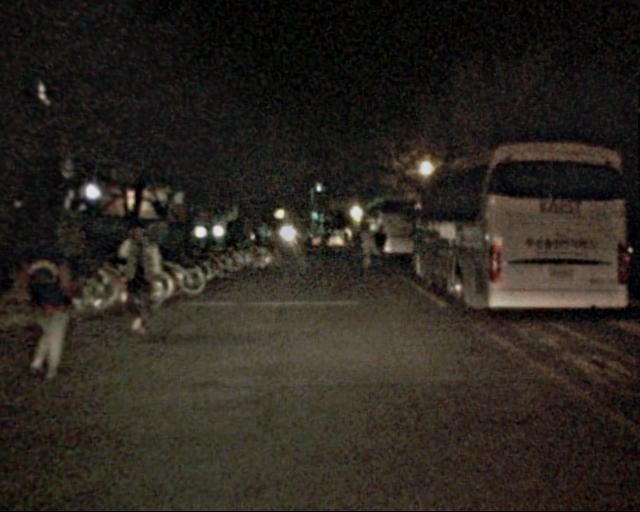person: (17, 221, 92, 385), (119, 219, 166, 334), (357, 223, 375, 267), (373, 225, 390, 267), (349, 227, 363, 260)
